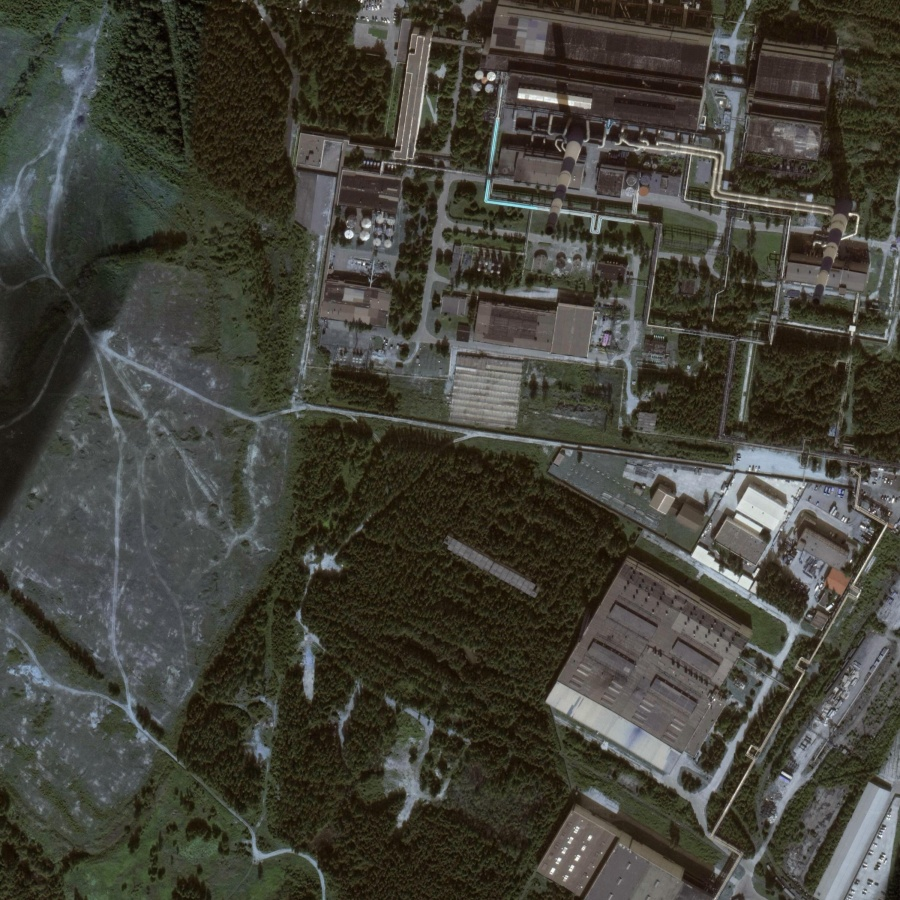PowerPlant: (498, 2, 856, 322)
